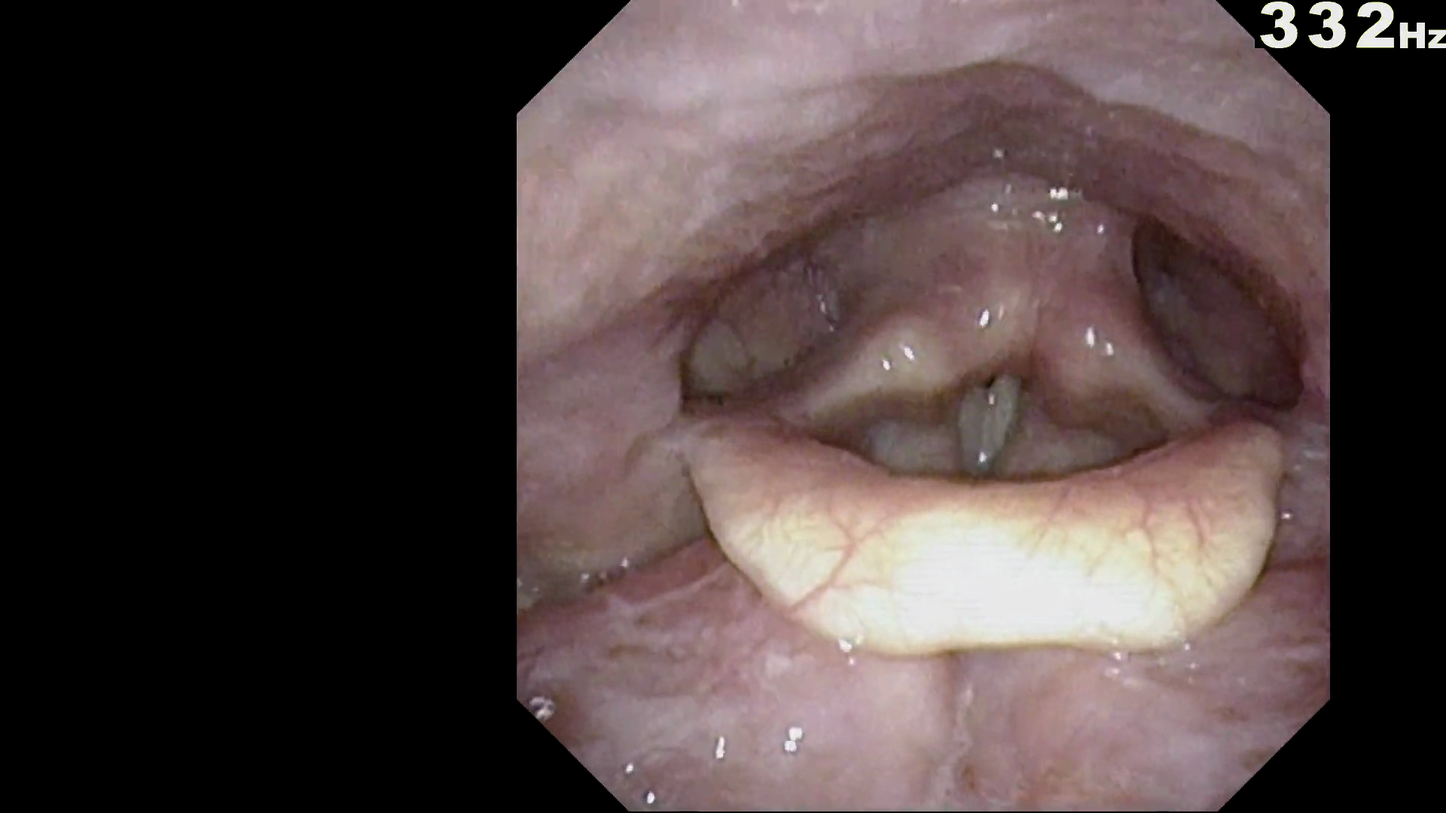epiglottis: (682, 401, 1289, 661)
trachea: (907, 320, 1079, 517)
